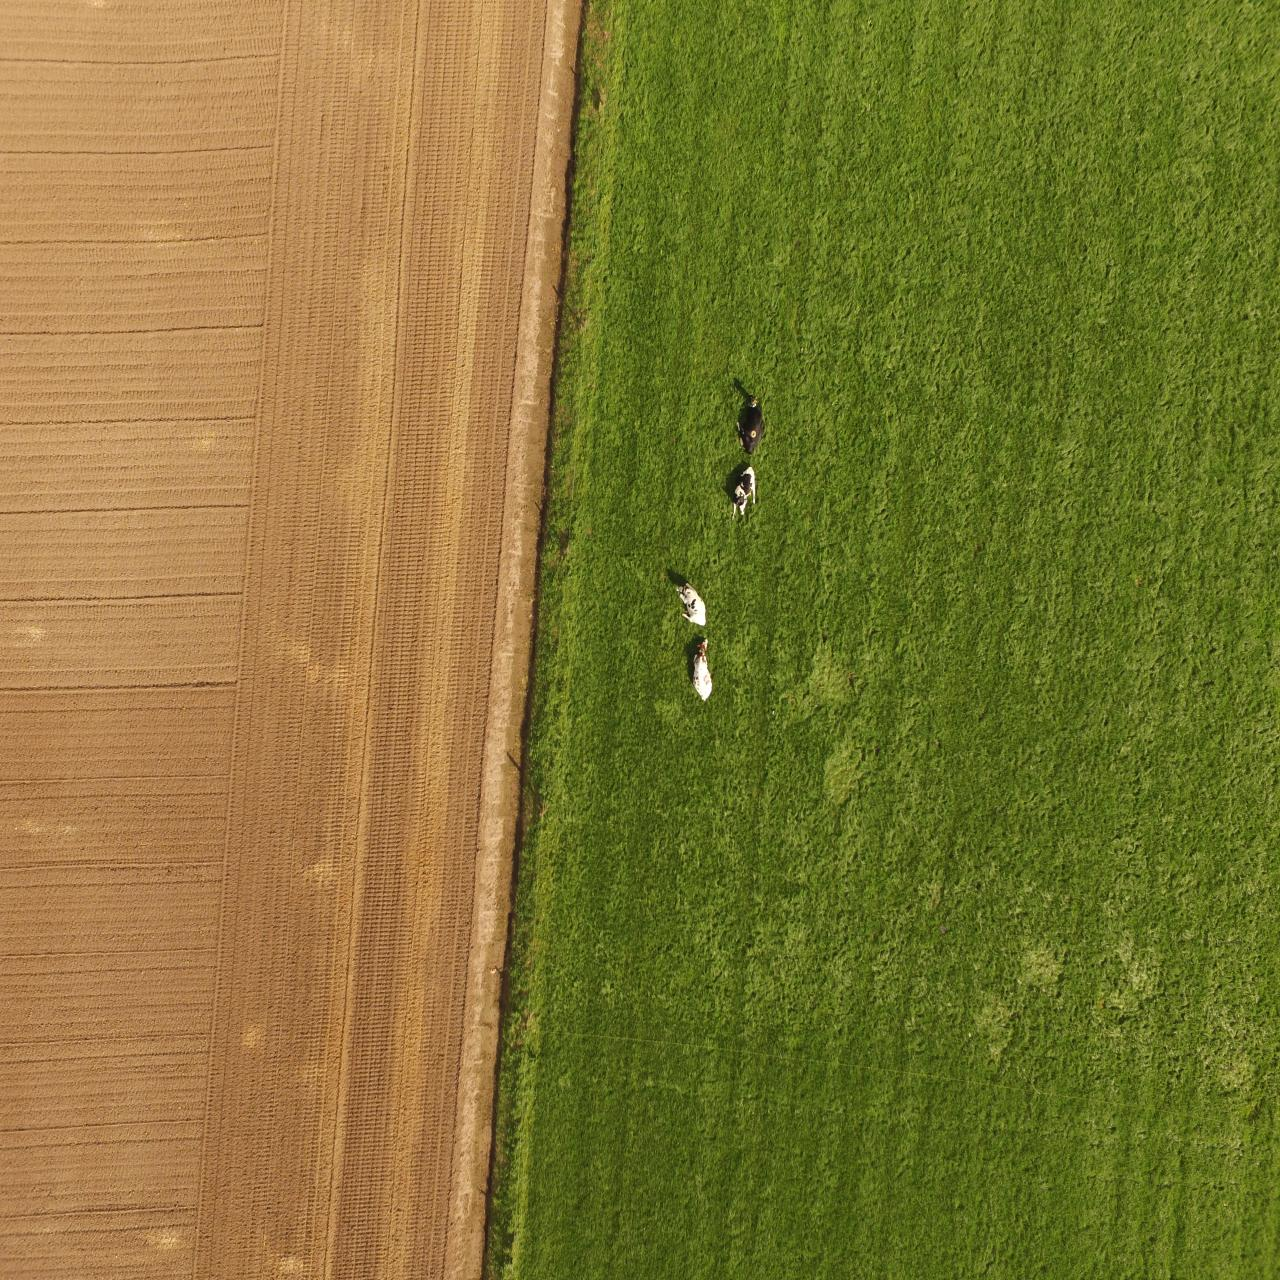cow: (735, 393, 763, 455), (730, 464, 757, 520), (675, 580, 707, 627), (692, 636, 713, 701)
